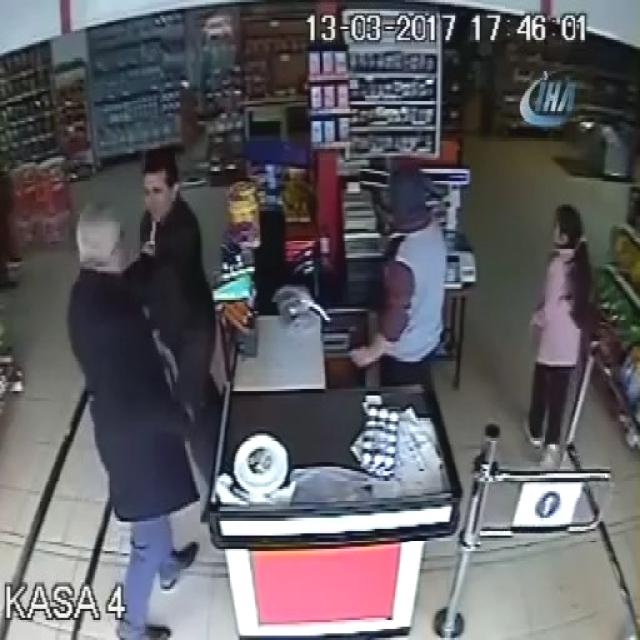fight: (68, 148, 210, 638)
